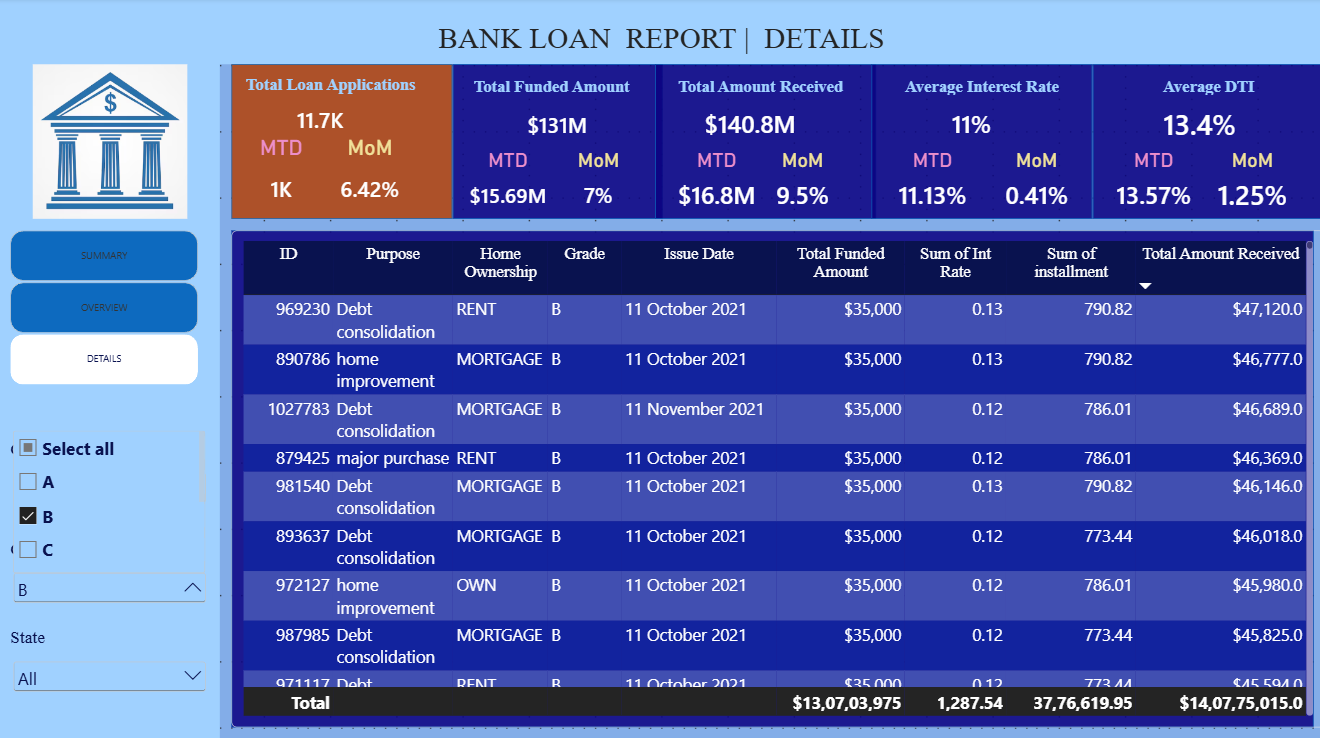

This screenshot's page, from the dashboard's own definition file:
{"tool":"powerbi","page":{"name":"DETAILS","canvas":[1920,1080],"ordinal":2},"visuals":[{"type":"shape","box":[0,88,320,992],"z":0},{"type":"shape","box":[336,96,320,224],"z":0,"group":"g1"},{"type":"shape","box":[656,96,304,224],"z":0,"group":"g6"},{"type":"shape","box":[951.6,96,320,224],"z":0,"group":"g3"},{"type":"shape","box":[1264,96,320,224],"z":0,"group":"g4"},{"type":"shape","box":[1584,96,336,224],"z":0,"group":"g5"},{"type":"shape","box":[0,0,1920,96],"z":1000},{"type":"textbox","box":[624,113.2,352,34.5],"z":1000,"group":"g6"},{"type":"cardVisual","fields":{"Data":["bank_loan_data.Total Loan Applications"]},"box":[350.5,127.8,228.6,95.4],"z":1000,"group":"g1"},{"type":"cardVisual","fields":{"Data":["bank_loan_data.Total Aount Received"]},"box":[974.5,130.5,228.6,103.4],"z":1000,"group":"g3"},{"type":"cardVisual","fields":{"Data":["bank_loan_data.Average Interest Rate"]},"box":[1294.5,130.5,228.6,103.4],"z":1000,"group":"g4"},{"type":"cardVisual","fields":{"Data":["bank_loan_data.Average DTI"]},"box":[1616,130.5,240,103.4],"z":1000,"group":"g5"},{"type":"textbox","box":[0,32,1920,64],"z":2000},{"type":"textbox","box":[320,111.9,320,31.8],"z":2000,"group":"g1"},{"type":"textbox","box":[944,113.2,320,34.5],"z":2000,"group":"g3"},{"type":"textbox","box":[1264,113.2,320,34.5],"z":2000,"group":"g4"},{"type":"textbox","box":[1584,113.2,336,34.5],"z":2000,"group":"g5"},{"type":"cardVisual","title":"MoM","fields":{"Data":["bank_loan_data.MoM Total Funded Amount"]},"box":[791.6,216.6,150.9,86.2],"z":2000,"group":"g6"},{"type":"group","id":"g1","title":"Group 1","box":[320,96,336,224],"z":3000},{"type":"cardVisual","fields":{"Data":["bank_loan_data.Total Funded Amount"]},"box":[720,147.7,176,68.9],"z":3000,"group":"g6"},{"type":"cardVisual","title":"MTD","fields":{"Data":["bank_loan_data.MTD Loan Applications"]},"box":[336,199.4,144,103.4],"z":3000,"group":"g1"},{"type":"cardVisual","title":"MTD","fields":{"Data":["bank_loan_data.MTD Total Amount Received"]},"box":[960,216.6,160,86.2],"z":3000,"group":"g3"},{"type":"cardVisual","title":"MTD","fields":{"Data":["bank_loan_data.MTD Average Interest Rate"]},"box":[1280,216.6,144,86.2],"z":3000,"group":"g4"},{"type":"cardVisual","title":"MTD","fields":{"Data":["bank_loan_data.MTD Average DTI"]},"box":[1600,216.6,144,86.2],"z":3000,"group":"g5"},{"type":"group","id":"g2","title":"Group 1","box":[624,96,352,224],"z":4000},{"type":"cardVisual","title":"MoM","fields":{"Data":["bank_loan_data.MoM Loan Applications"]},"box":[464,199.4,144,103.4],"z":4000,"group":"g1"},{"type":"cardVisual","title":"MTD","fields":{"Data":["bank_loan_data.MTD Funded Amount"]},"box":[656,216.6,160,86.2],"z":4000,"group":"g6"},{"type":"cardVisual","title":"MoM","fields":{"Data":["bank_loan_data.Mom Loan Received"]},"box":[1096.4,216.6,137.1,86.2],"z":4000,"group":"g3"},{"type":"cardVisual","title":"MoM","fields":{"Data":["bank_loan_data.MoM Avg Int Rate"]},"box":[1424,216.6,160,86.2],"z":4000,"group":"g4"},{"type":"cardVisual","title":"MoM","fields":{"Data":["bank_loan_data.MoM Average DTI"]},"box":[1744,216.6,144,86.2],"z":4000,"group":"g5"},{"type":"shape","box":[336,336,1568,720],"z":5000},{"type":"group","id":"g3","title":"Group 1","box":[944,96,320,224],"z":6000},{"type":"group","id":"g4","title":"Group 1","box":[1264,96,320,224],"z":7000},{"type":"group","id":"g5","title":"Group 1","box":[1584,96,336,224],"z":8000},{"type":"slicer","title":"Good loan vs Bad Loan","fields":{"Values":["bank_loan_data.Good vs Bad Loan"]},"box":[16,640,288,96],"z":9000},{"type":"slicer","title":"Grade","fields":{"Values":["bank_loan_data.grade"]},"box":[16,784,288,96],"z":10000},{"type":"slicer","title":"State","fields":{"Values":["bank_loan_data.address_state"]},"box":[16,912,288,112],"z":11000},{"type":"group","id":"g6","title":"Group 2","box":[624,96,352,224],"z":11001,"group":"g2"},{"type":"tableEx","fields":{"Values":["bank_loan_data.id","bank_loan_data.purpose","bank_loan_data.home_ownership","bank_loan_data.grade","bank_loan_data.issue_date","bank_loan_data.Total Funded Amount","Sum(bank_loan_data.int_rate)","Sum(bank_loan_data.installment)","bank_loan_data.Total Amount Received"]},"box":[336,336,1584,720],"z":13000},{"type":"image","box":[48,96,224,224],"z":14000},{"type":"pageNavigator","box":[16,336,272,224],"z":15000}]}

Visuals, with their boxes in screenshot pixels (x1, y1, x2, y2), scaled from the page's 1920x1080 canvas onto the 1320x738 screenshot:
shape: 0, 60, 220, 737
shape: 231, 66, 451, 219
shape: 451, 66, 660, 219
shape: 654, 66, 874, 219
shape: 869, 66, 1089, 219
shape: 1089, 66, 1319, 219
shape: 0, 0, 1319, 66
textbox: 429, 77, 671, 101
cardVisual - bank_loan_data.Total Loan Applications: 241, 87, 398, 153
cardVisual - bank_loan_data.Total Aount Received: 670, 89, 827, 160
cardVisual - bank_loan_data.Average Interest Rate: 890, 89, 1047, 160
cardVisual - bank_loan_data.Average DTI: 1111, 89, 1276, 160
textbox: 0, 22, 1319, 66
textbox: 220, 76, 440, 98
textbox: 649, 77, 869, 101
textbox: 869, 77, 1089, 101
textbox: 1089, 77, 1319, 101
"MoM" cardVisual: 544, 148, 648, 207
"Group 1" group: 220, 66, 451, 219
cardVisual - bank_loan_data.Total Funded Amount: 495, 101, 616, 148
"MTD" cardVisual: 231, 136, 330, 207
"MTD" cardVisual: 660, 148, 770, 207
"MTD" cardVisual: 880, 148, 979, 207
"MTD" cardVisual: 1100, 148, 1199, 207
"Group 1" group: 429, 66, 671, 219
"MoM" cardVisual: 319, 136, 418, 207
"MTD" cardVisual: 451, 148, 561, 207
"MoM" cardVisual: 754, 148, 848, 207
"MoM" cardVisual: 979, 148, 1089, 207
"MoM" cardVisual: 1199, 148, 1298, 207
shape: 231, 230, 1309, 722
"Group 1" group: 649, 66, 869, 219
"Group 1" group: 869, 66, 1089, 219
"Group 1" group: 1089, 66, 1319, 219
"Good loan vs Bad Loan" slicer: 11, 437, 209, 503
"Grade" slicer: 11, 536, 209, 601
"State" slicer: 11, 623, 209, 700
"Group 2" group: 429, 66, 671, 219
tableEx - bank_loan_data.id x bank_loan_data.purpose: 231, 230, 1319, 722
image: 33, 66, 187, 219
pageNavigator: 11, 230, 198, 383
